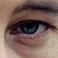eye: (21, 22, 40, 34)
